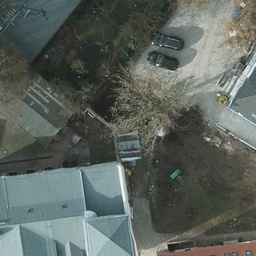car: (148, 51, 179, 73), (151, 32, 183, 51)
